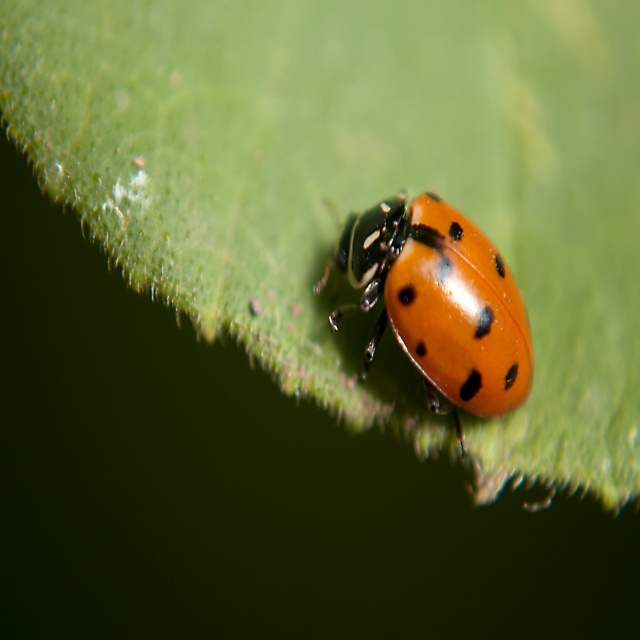Ladybug: (311, 192, 538, 456)
